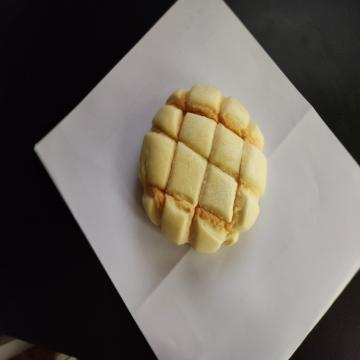melon_bread: (136, 85, 270, 251)
